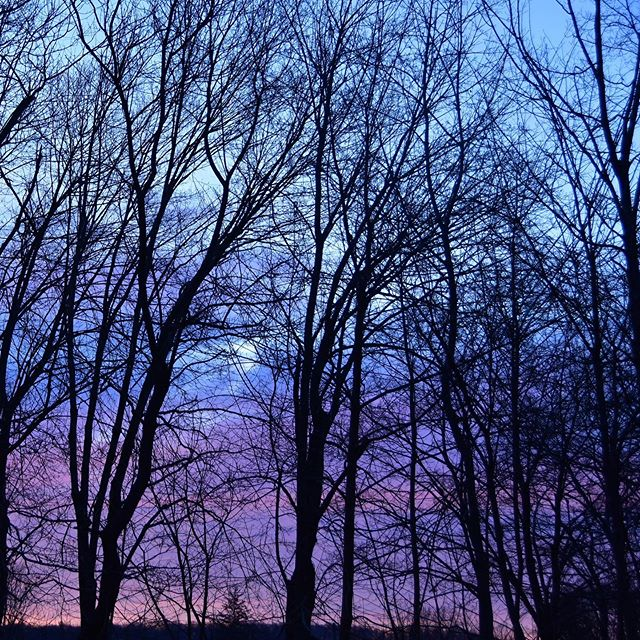vegetation: (1, 4, 633, 633)
